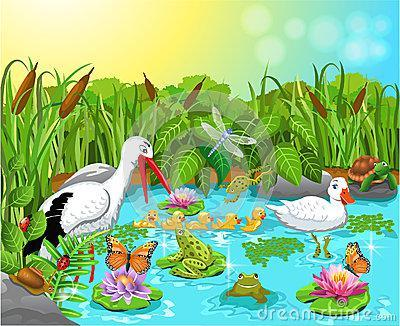bird: (25, 123, 170, 255), (263, 170, 350, 237), (239, 202, 266, 235), (210, 209, 244, 233), (183, 205, 213, 231), (131, 206, 159, 230), (159, 206, 184, 230)
